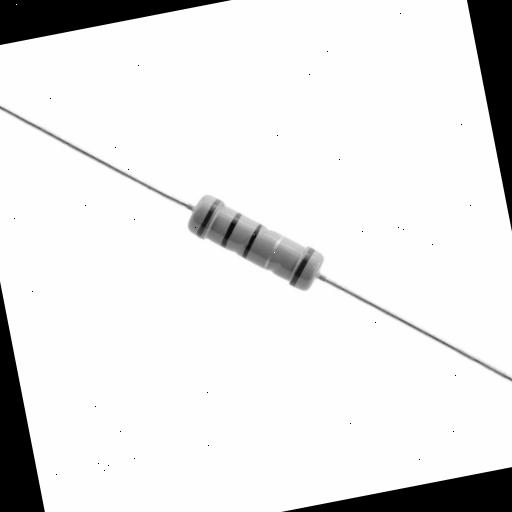RESISTOR: (50, 126, 451, 409)
